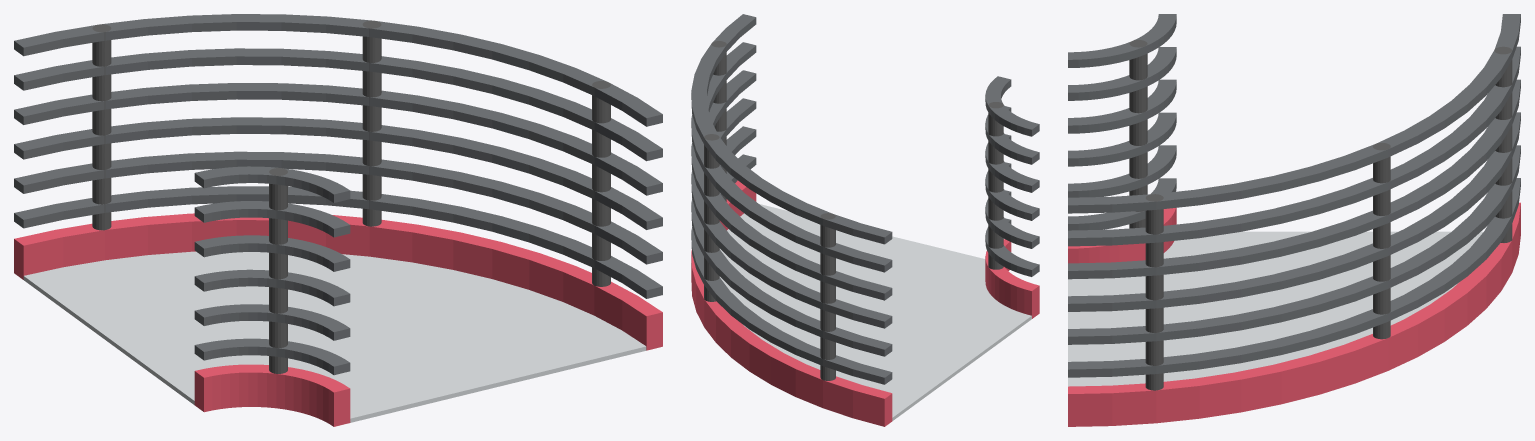
File: corner.glb
3 views of the same model, side by side, from view 1: azimuth 30°, elevation 25°; view 2: azimuth 150°, elevation 25°; view 3: azimuth 270°, elevation 25° (orthographic). The views are drawn at different scales.
Visible parts, largest first — view 1: obj_0; view 2: obj_0; view 3: obj_0.
Part boxes in pixels (box(x1,y1,x2,y2)): obj_0: box(14, 14, 662, 426); obj_0: box(691, 14, 1039, 426); obj_0: box(1068, 14, 1520, 426).
Bounding box in the file's own units: 25 × 13.5 × 25.
